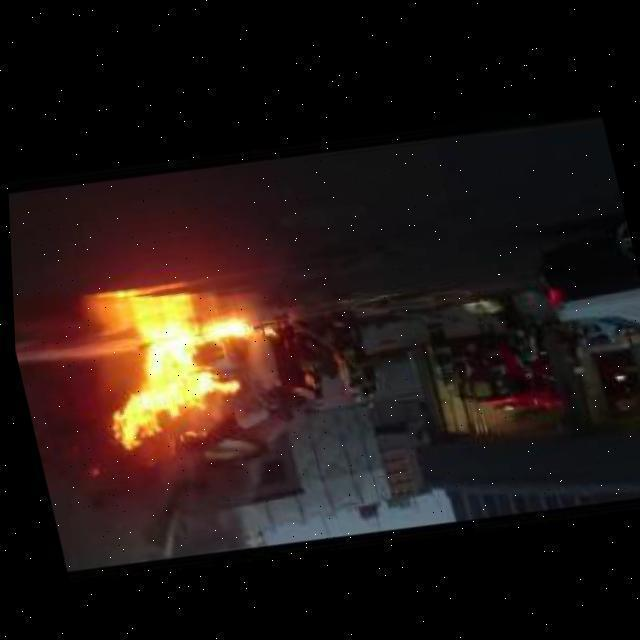fire: (85, 307, 293, 458)
